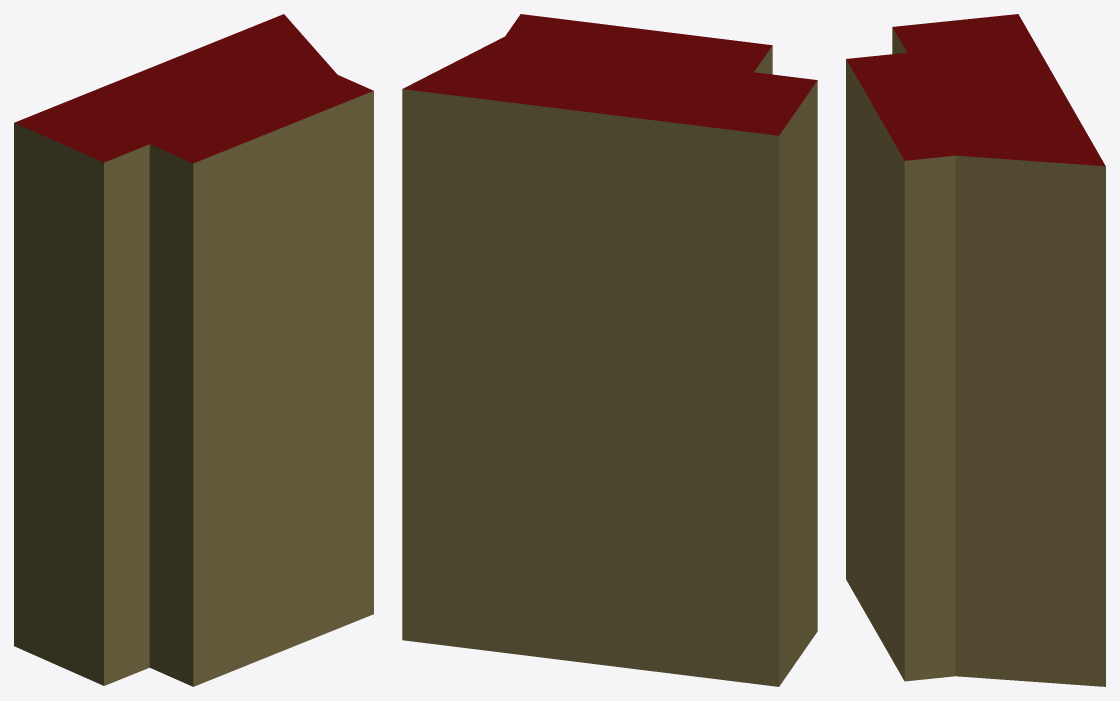
3 views of the same model, side by side, from view 1: azimuth 30°, elevation 25°; view 2: azimuth 150°, elevation 25°; view 3: azimuth 270°, elevation 25° (orthographic). The views are drawn at different scales.
Visible parts, largest first — view 1: Building0; view 2: Building0; view 3: Building0.
Part boxes in pixels (x1,y1,x2,y2): Building0: [14, 14, 373, 686]; Building0: [402, 14, 817, 686]; Building0: [846, 14, 1105, 686].
Size of what is drawn, in the model's own units: 23.53 by 37.5 by 16.95.
